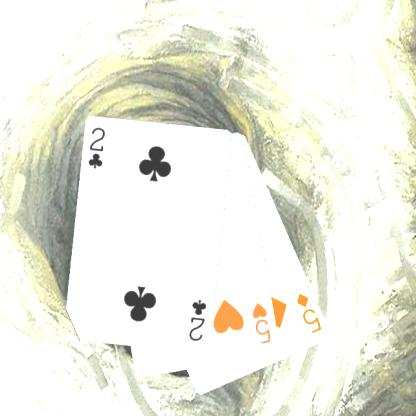2C: (85, 124, 107, 171), (186, 297, 208, 343)
5D: (294, 290, 324, 335)
5H: (249, 300, 273, 346)
